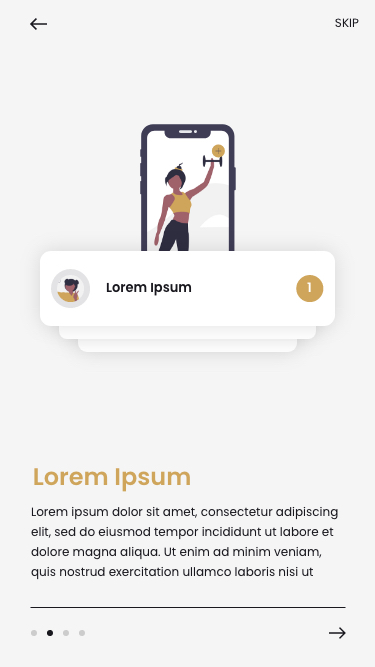Icon: (329, 626, 347, 640), (30, 18, 49, 31)
Image: (40, 124, 336, 353)
PageIndicator: (31, 629, 87, 637)
Text: (32, 506, 339, 580), (34, 467, 192, 493), (334, 17, 359, 29)
